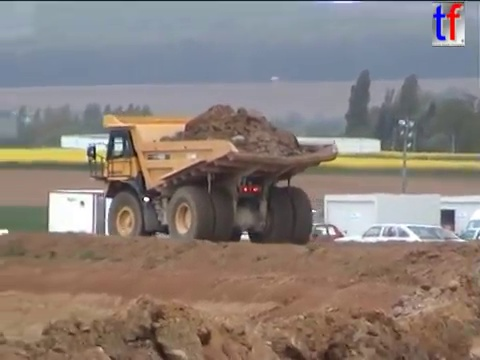truck: (83, 112, 340, 251)
